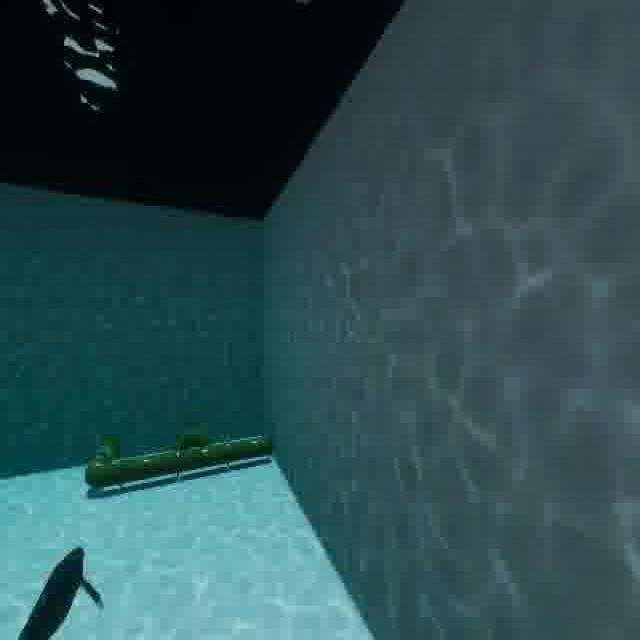Pipe: (78, 412, 281, 504)
